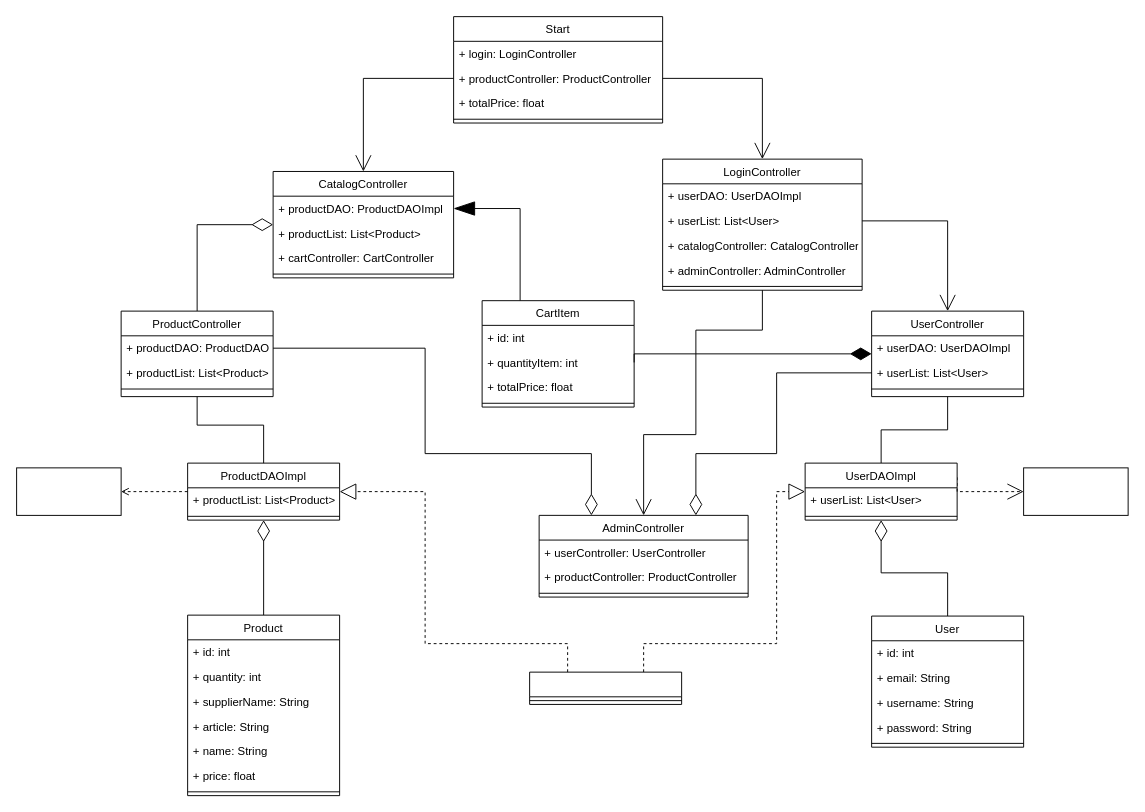
This 1145x812 diagram has some shape labels left out. The centre of each missing label's shape, as x and y in pixels:
"InitializationUtil" belongs at (x=605, y=687).
"«interface» ProductDAO" belongs at (x=68, y=491).
"«interface» UserDAO" belongs at (x=1075, y=491).
